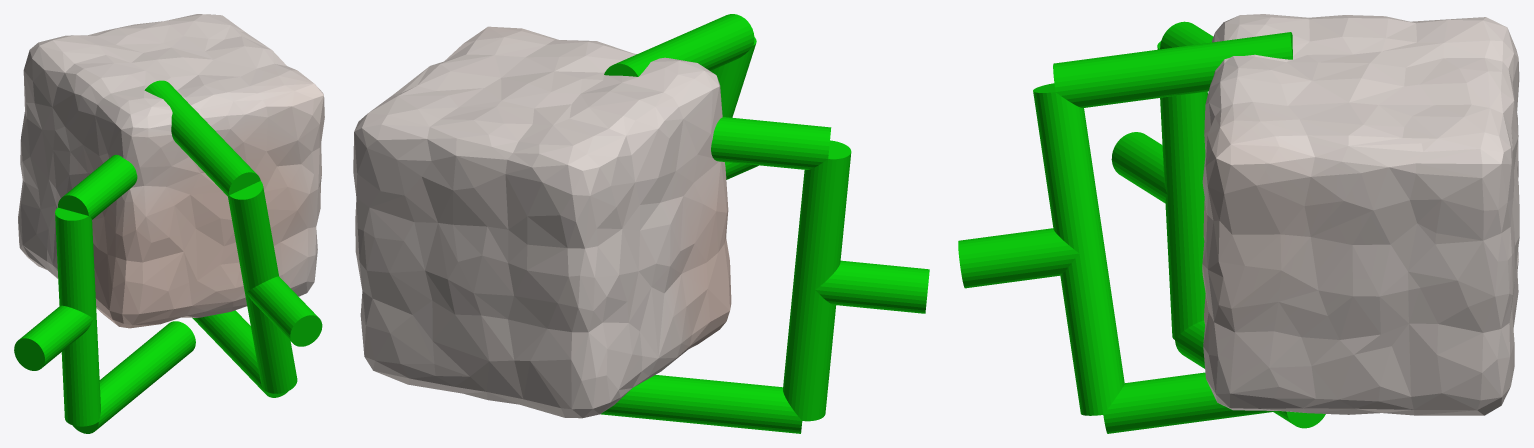
File: round_000_trial_000.obj
3 renders of one model, left to right at view 1: azimuth 30°, elevation 25°; view 2: azimuth 150°, elevation 25°; view 3: azimuth 270°, elevation 25°, orthographic. The views are drawn at different scales.
Parts seen in each view (by area): view 1: geometry_0, geometry_2, geometry_1; view 2: geometry_0, geometry_2, geometry_1; view 3: geometry_0, geometry_1, geometry_2.
Part boxes in pixels (left/top/right/bottom): geometry_0: left=18, top=14, right=324, bottom=328; geometry_2: left=14, top=154, right=195, bottom=433; geometry_1: left=144, top=80, right=322, bottom=397; geometry_0: left=353, top=26, right=731, bottom=418; geometry_2: left=600, top=117, right=929, bottom=433; geometry_1: left=604, top=14, right=758, bottom=179; geometry_0: left=1202, top=14, right=1519, bottom=415; geometry_1: left=958, top=32, right=1292, bottom=433; geometry_2: left=1111, top=21, right=1325, bottom=428.
Size of the model in its own units: 0.1082 by 0.0904 by 0.1168.
